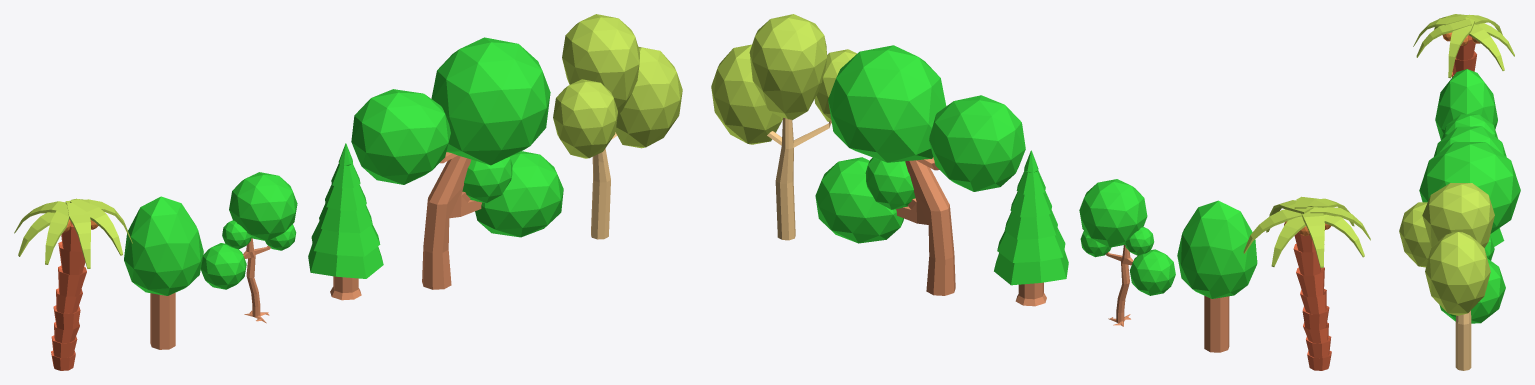
The model's file is trees.glb.
3 views of the same model, side by side, from view 1: azimuth 30°, elevation 25°; view 2: azimuth 150°, elevation 25°; view 3: azimuth 270°, elevation 25° (orthographic). The views are drawn at different scales.
Parts seen in each view (by area): view 1: Cylinder.002, Cylinder.005, Cylinder.006, Cylinder.003, Icosphere.011, Cylinder.001; view 2: Cylinder.002, Cylinder.005, Cylinder.006, Icosphere.011, Cylinder.003, Cylinder.001; view 3: Cylinder.005, Cylinder.002, Icosphere.011, Cylinder.006, Cylinder.003, Cylinder.001.
Part boxes in pixels (<box>): Cylinder.002: <box>351,37,563,289</box>; Cylinder.005: <box>553,14,682,239</box>; Cylinder.006: <box>124,196,203,349</box>; Cylinder.003: <box>200,172,297,323</box>; Icosphere.011: <box>14,198,132,370</box>; Cylinder.001: <box>308,143,383,300</box>; Cylinder.002: <box>815,45,1025,295</box>; Cylinder.005: <box>711,14,857,240</box>; Cylinder.006: <box>1177,200,1257,352</box>; Icosphere.011: <box>1243,196,1370,370</box>; Cylinder.003: <box>1079,179,1175,326</box>; Cylinder.001: <box>994,150,1068,306</box>; Cylinder.005: <box>1399,183,1494,370</box>; Cylinder.002: <box>1419,126,1520,323</box>; Icosphere.011: <box>1413,14,1514,78</box>; Cylinder.006: <box>1435,69,1497,139</box>; Cylinder.003: <box>1441,114,1497,139</box>; Cylinder.001: <box>1490,228,1504,246</box>.
Size of the model in its own units: 57.6 by 19.44 by 11.11.
